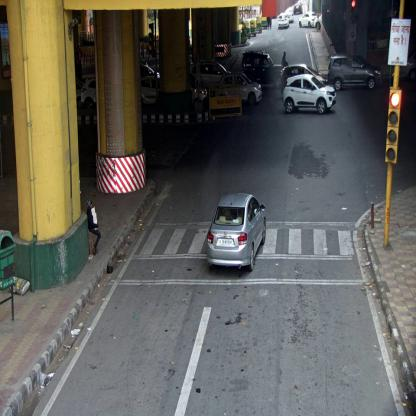car: (206, 191, 268, 271), (280, 76, 338, 113), (329, 54, 382, 88), (242, 51, 284, 89), (217, 72, 264, 104), (281, 64, 328, 92), (190, 61, 229, 90), (299, 11, 318, 27), (279, 11, 290, 31)
